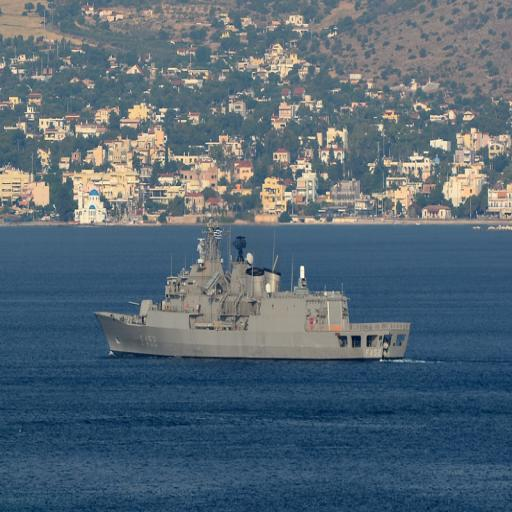Fragata: (92, 222, 413, 368)
